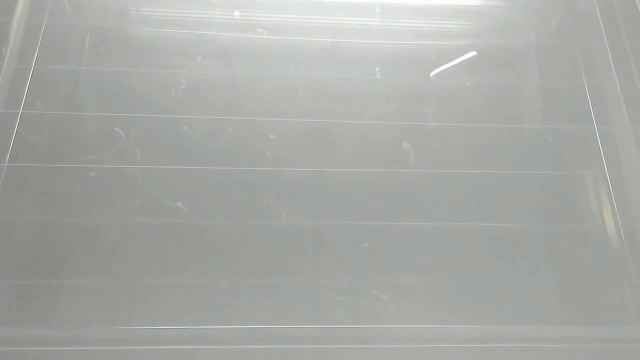alpha: (426, 48, 481, 79)
